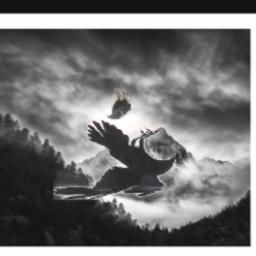Crow: (53, 120, 176, 200), (108, 88, 132, 119)
